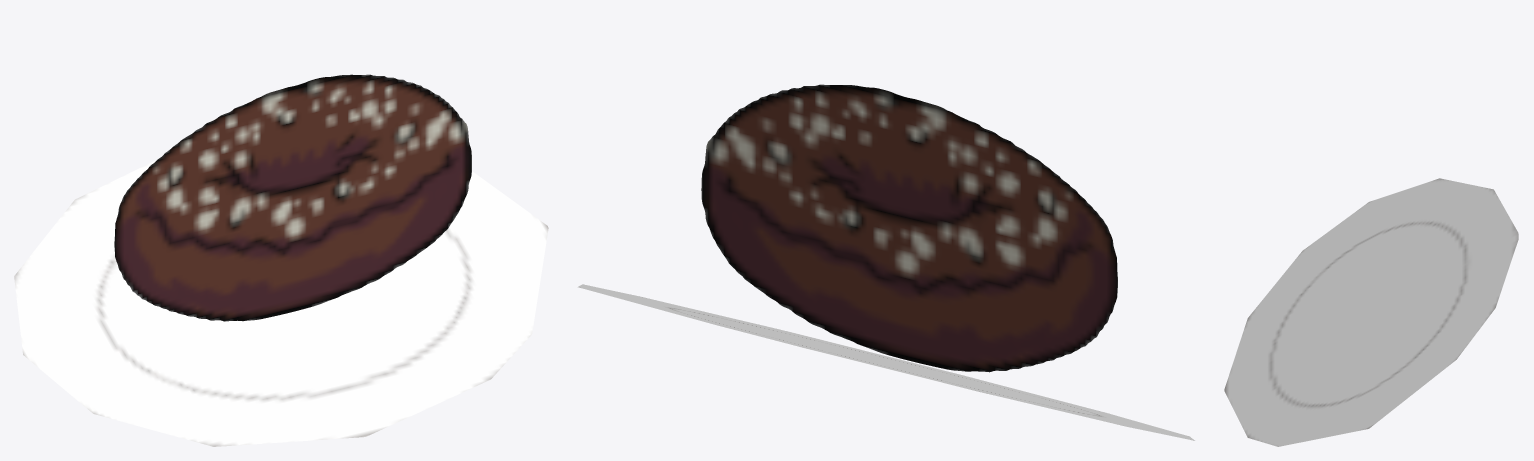
The model's file is giftgoods043a.fbx.
3 renders of one model, left to right at view 1: azimuth 30°, elevation 25°; view 2: azimuth 150°, elevation 25°; view 3: azimuth 270°, elevation 25°, orthographic. The views are drawn at different scales.
Visible parts, largest first — view 1: giftgoods043a; view 2: giftgoods043a; view 3: giftgoods043a.
Boxes of the visible parts, <box> form: giftgoods043a: <box>14,74,548,446</box>; giftgoods043a: <box>578,84,1194,440</box>; giftgoods043a: <box>1224,178,1518,446</box>.
Bounding box in the file's own units: 0.4134 × 0.2458 × 0.2277.
